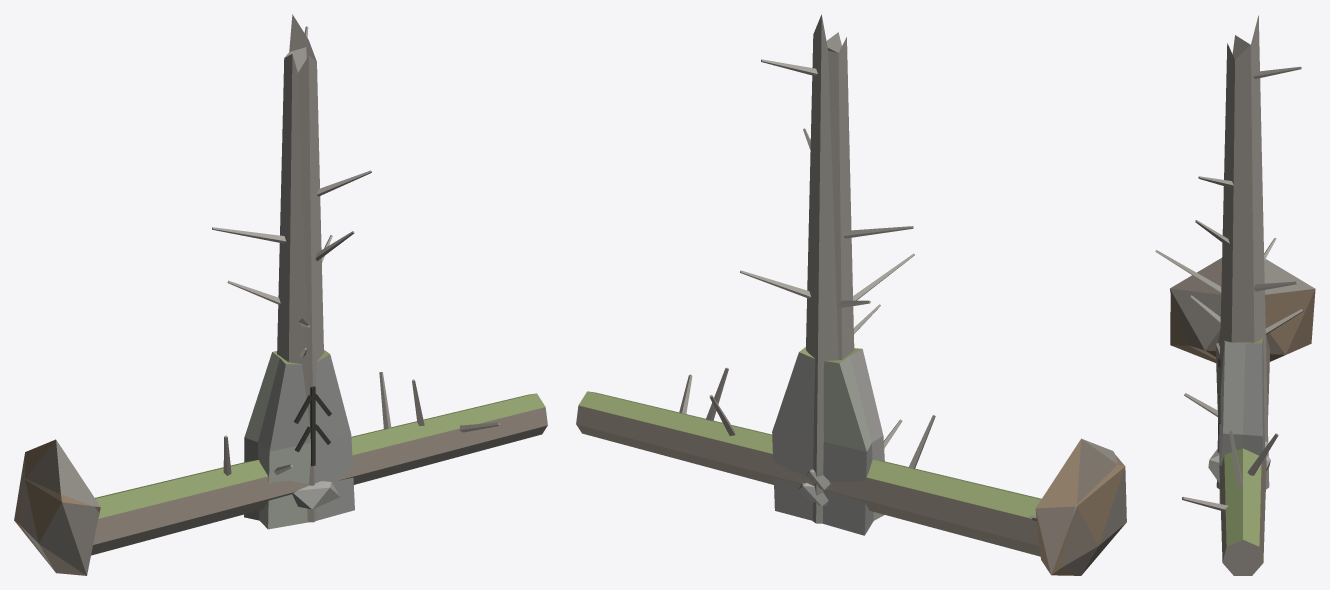
File: props.glb
3 renders of one model, left to right at view 1: azimuth 30°, elevation 25°; view 2: azimuth 150°, elevation 25°; view 3: azimuth 270°, elevation 25°, orthographic. The views are drawn at different scales.
Visible parts, largest first — view 1: Log0, RuneStone, Snag0, Snag2, Log1, Cairn, Snag1; view 2: Log0, RuneStone, Snag2, Snag0, Log1, Snag1; view 3: Snag2, Log1, Log0, RuneStone, Snag0, Snag1, Cairn.
Boxes of the visible parts, x1,y1,x2,y2 form: Log0: [19, 393, 547, 575]; RuneStone: [244, 350, 354, 529]; Snag0: [227, 47, 332, 522]; Snag2: [289, 14, 371, 521]; Log1: [14, 372, 500, 569]; Cairn: [292, 481, 339, 509]; Snag1: [212, 227, 354, 327]; Log0: [576, 391, 1126, 575]; RuneStone: [772, 347, 884, 535]; Snag2: [761, 14, 841, 523]; Snag0: [740, 37, 880, 359]; Log1: [679, 367, 1117, 575]; Snag1: [843, 226, 914, 300]; Snag2: [1198, 15, 1301, 489]; Log1: [1170, 258, 1315, 511]; Log0: [1170, 294, 1303, 575]; RuneStone: [1218, 338, 1265, 503]; Snag0: [1190, 35, 1297, 323]; Snag1: [1155, 220, 1229, 293]; Cairn: [1208, 441, 1270, 482].
Size of the model in its own units: 6.34 by 5.99 by 1.83.
